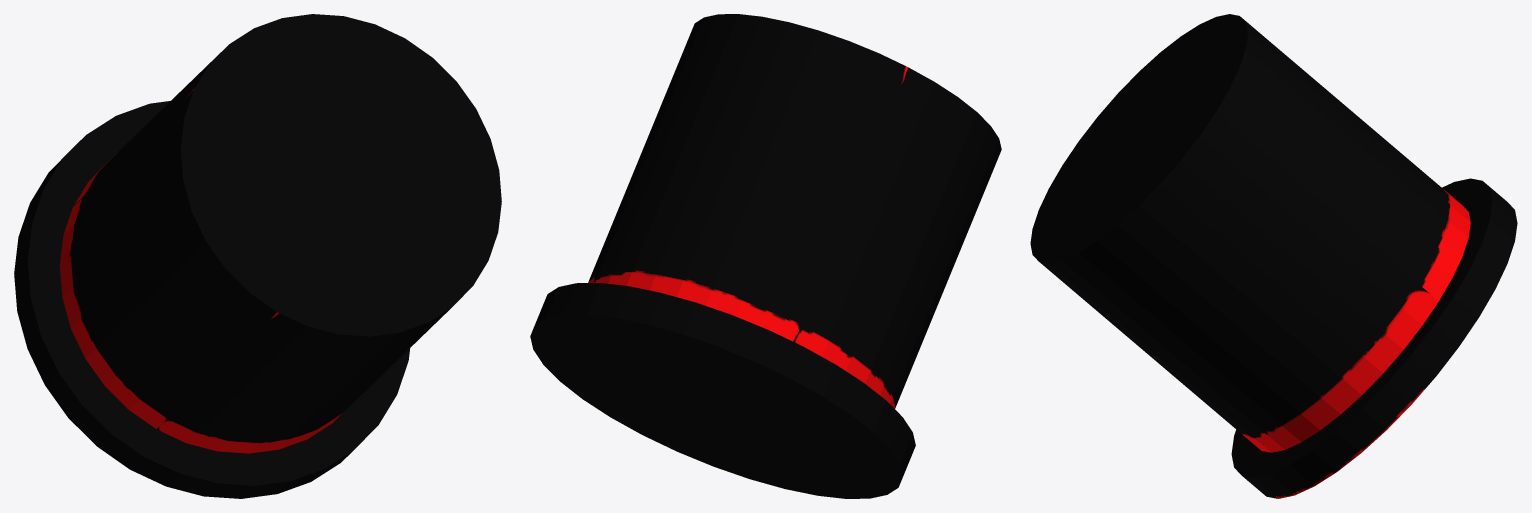
File: TopHat.fbx
The picture shows the model from 3 angles, left to right: view 1: azimuth 30°, elevation 25°; view 2: azimuth 150°, elevation 25°; view 3: azimuth 270°, elevation 25°; orthographic projection. The views are drawn at different scales.
Parts seen in each view (by area): view 1: Circle; view 2: Circle; view 3: Circle.
Boxes of the visible parts, x1,y1,x2,y2 form: Circle: [14, 14, 501, 498]; Circle: [530, 14, 1001, 498]; Circle: [1030, 14, 1517, 498].
Size of the model in its own units: 86.62 by 111 by 111.
